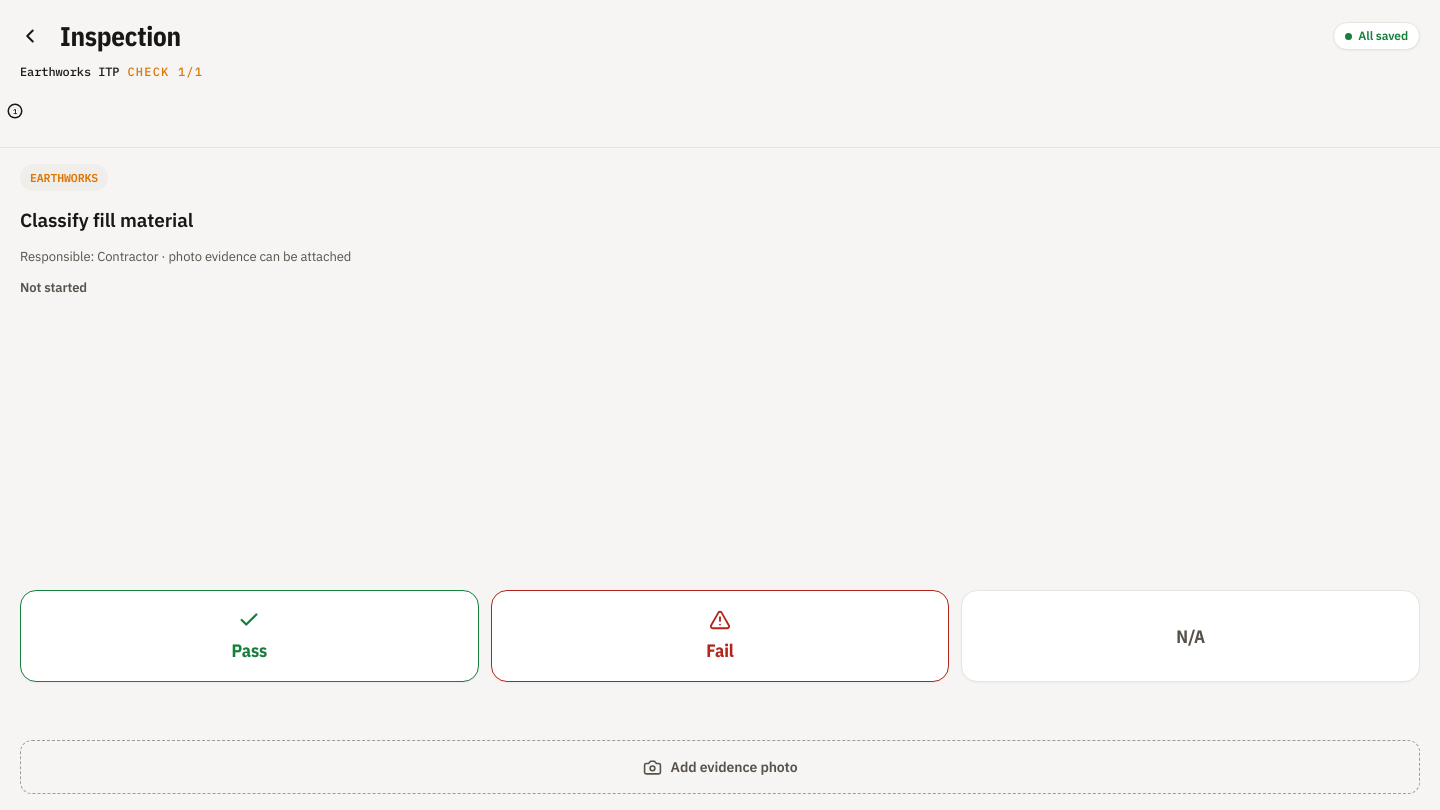
ItpRunScreen — photo evidence guard › confirms before passing a photo-required check with no photo (does not pass yet)
What coordinates should you click on to do the following:
click the button with aria-label "Pass this check"
I would click on:
 (249, 636)
Its box is x1=20 y1=590 x2=479 y2=682.
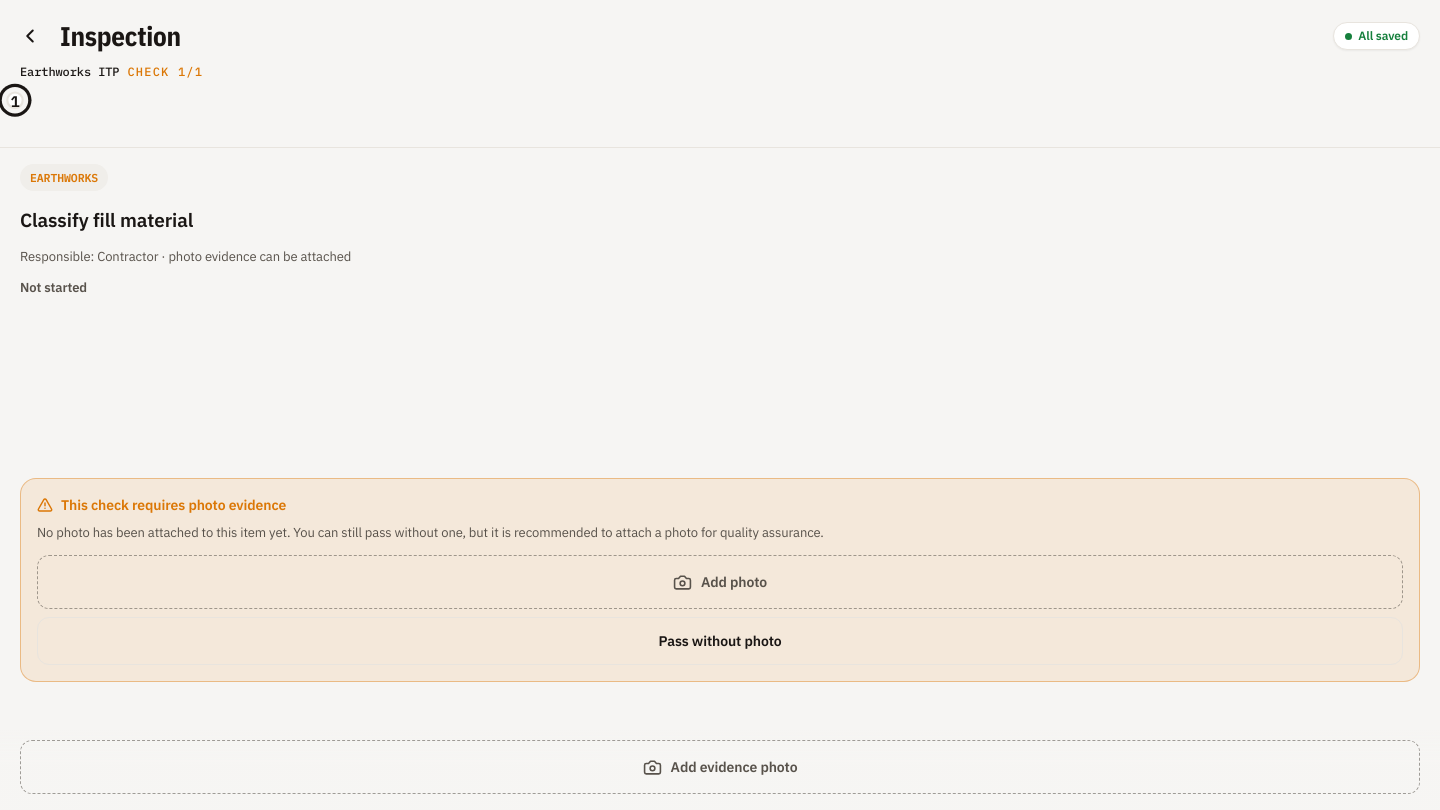
Check: the text "This check requires photo evidence" is shown, box x1=37 y1=496 x2=286 y2=514
Check: the button "Pass without photo" is shown, box x1=37 y1=617 x2=1403 y2=665
